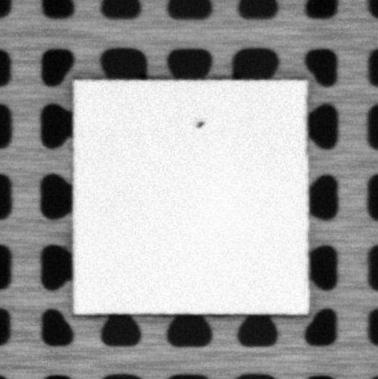DIE_INK: (194, 118, 206, 130)
